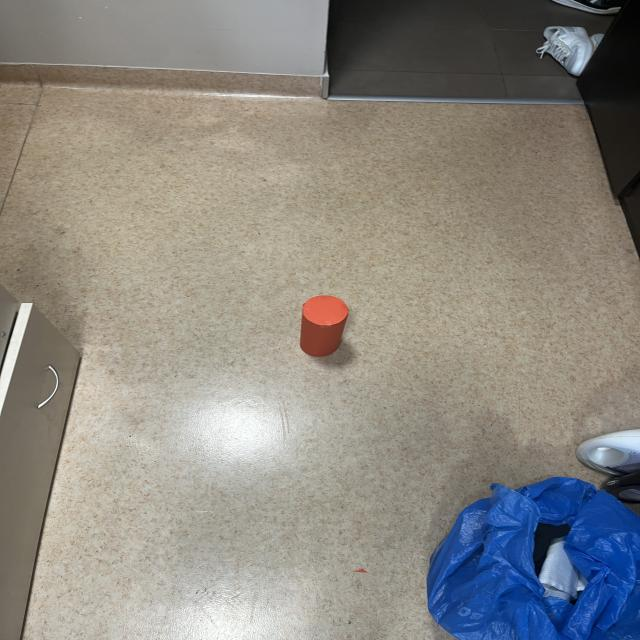przeszkoda: (300, 296, 348, 357)
